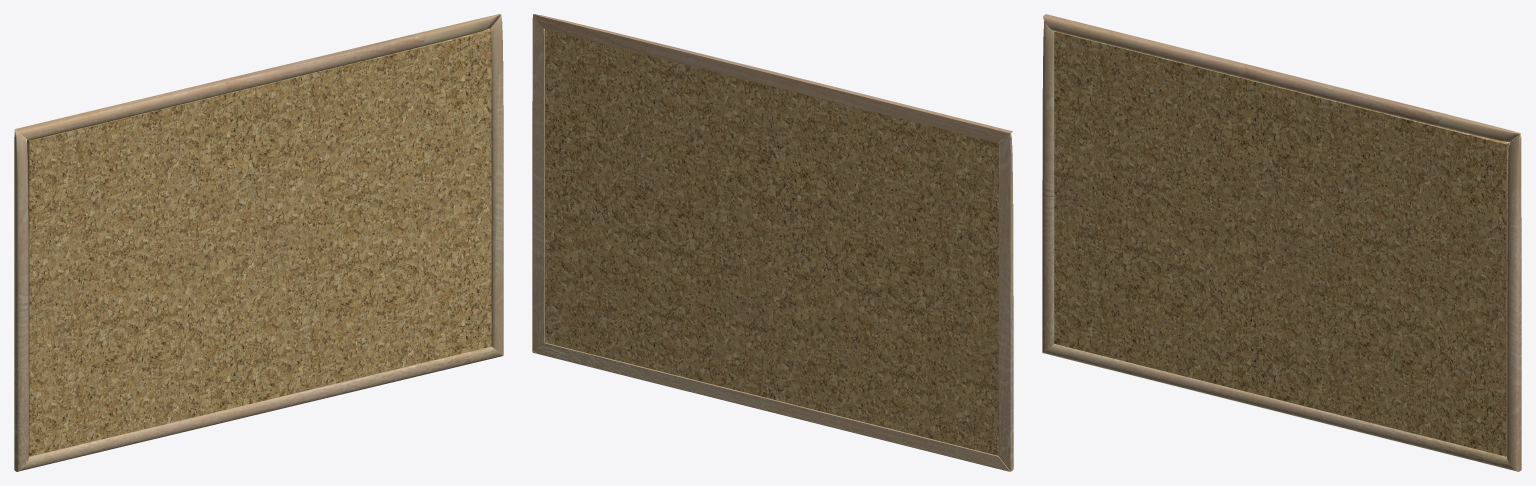
Rendered from Board1.obj.
3 renders of one model, left to right at view 1: azimuth 30°, elevation 25°; view 2: azimuth 150°, elevation 25°; view 3: azimuth 330°, elevation 25°, orthographic.
Visible parts, largest first — view 1: default; view 2: default; view 3: default.
Part boxes in pixels (x1=…): default: x1=14, y1=14, x2=503, y2=471; default: x1=532, y1=14, x2=1013, y2=471; default: x1=1042, y1=14, x2=1521, y2=471.
Size of the model in its own units: 9.13 by 6.14 by 0.2476.
Materials: 1 (1 with a texture image).
